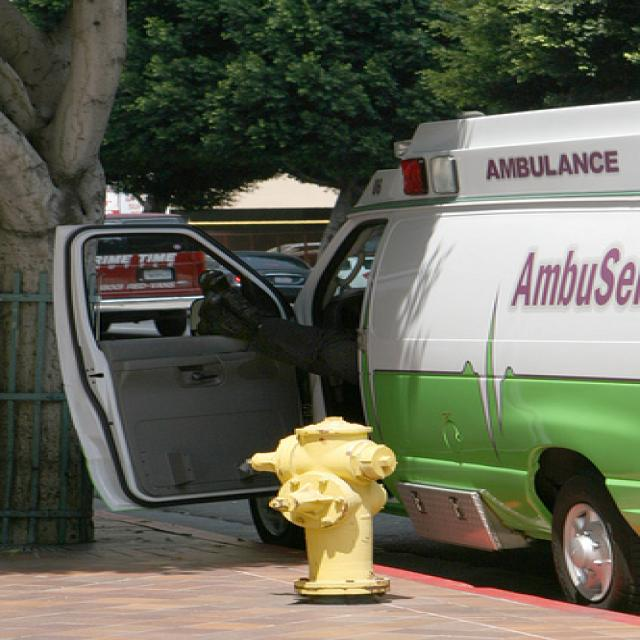Vehicle: (37, 100, 639, 608), (205, 250, 314, 302)
